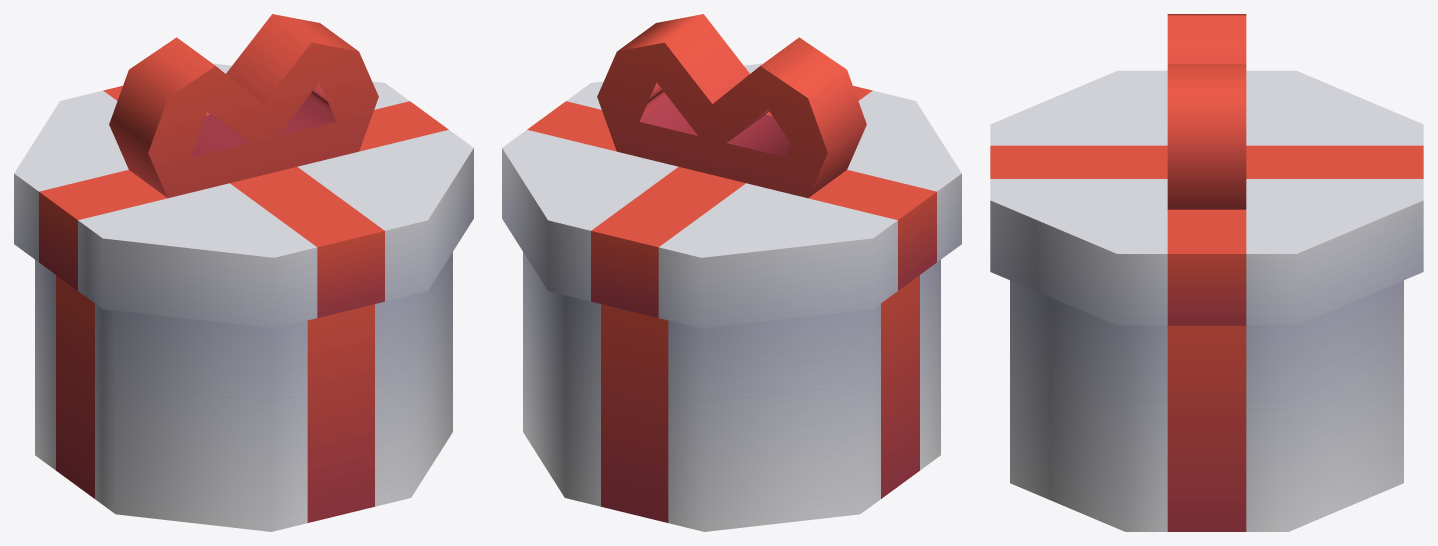
The model's file is cc0-present-round-lod1.glb.
3 views of the same model, side by side, from view 1: azimuth 30°, elevation 25°; view 2: azimuth 150°, elevation 25°; view 3: azimuth 270°, elevation 25° (orthographic).
Parts seen in each view (by area): view 1: part_0; view 2: part_0; view 3: part_0.
Part boxes in pixels (bbox=[...]): part_0: bbox=[14, 14, 473, 531]; part_0: bbox=[502, 14, 961, 531]; part_0: bbox=[990, 14, 1423, 531].
Bounding box in the file's own units: 0.5489 × 0.5707 × 0.5489.
1 material, 1 textured.
